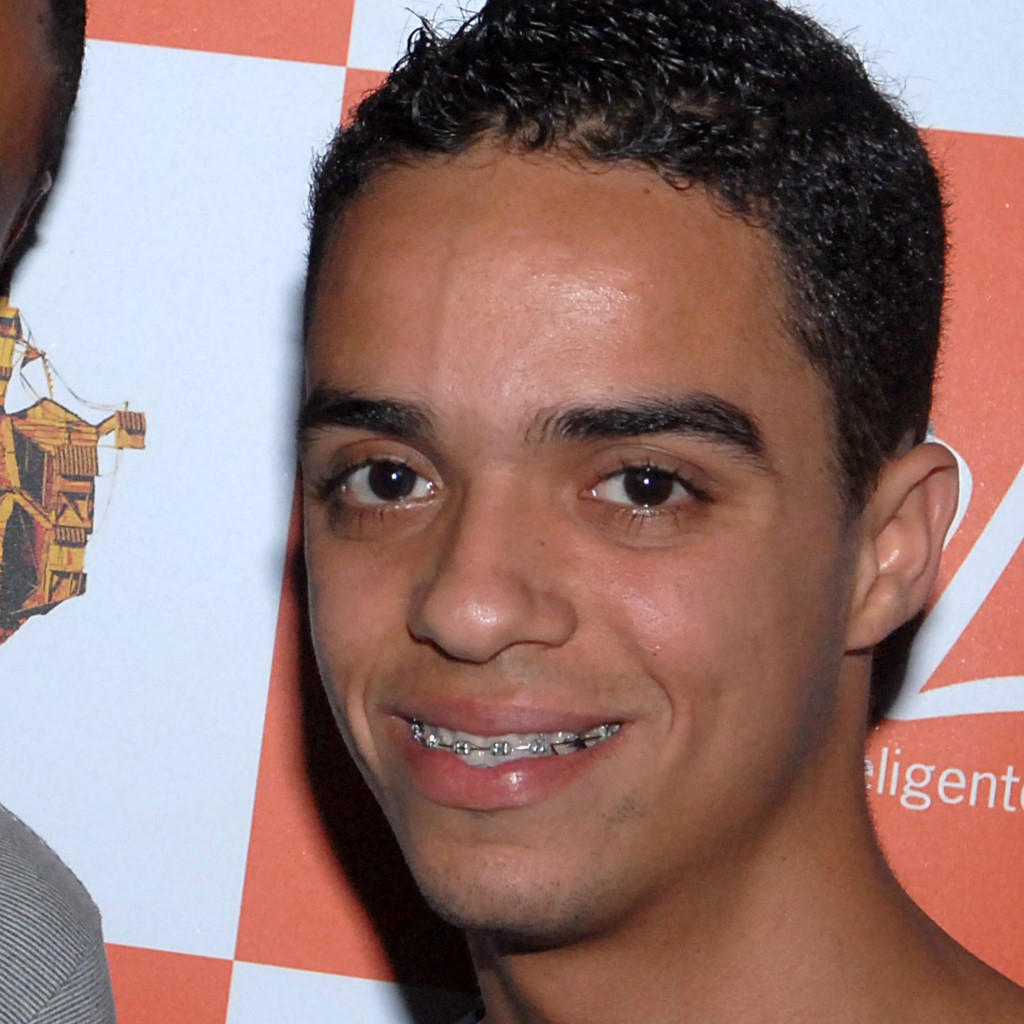sin_mascara: (318, 116, 909, 944)
